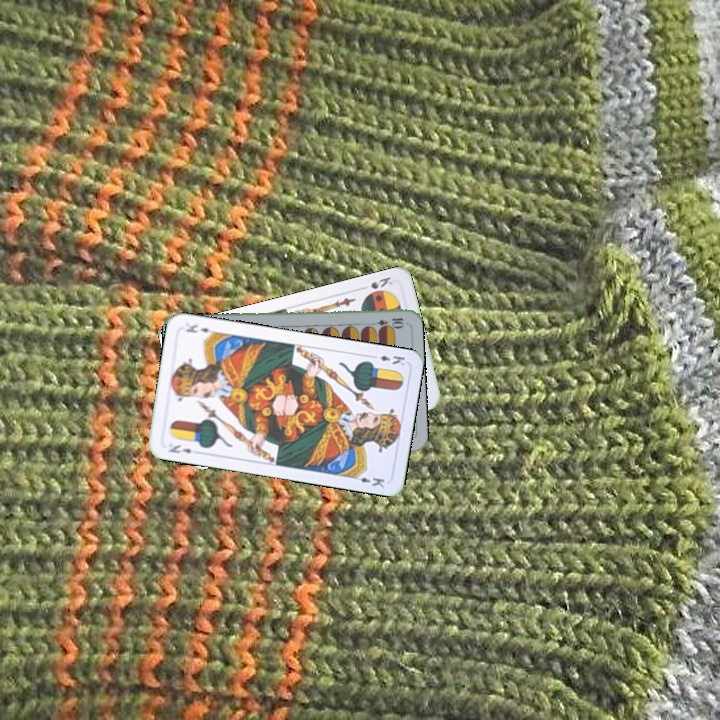E10: (366, 314, 406, 329)
EK: (367, 351, 407, 368), (165, 441, 194, 456)
SK: (367, 273, 395, 292)
